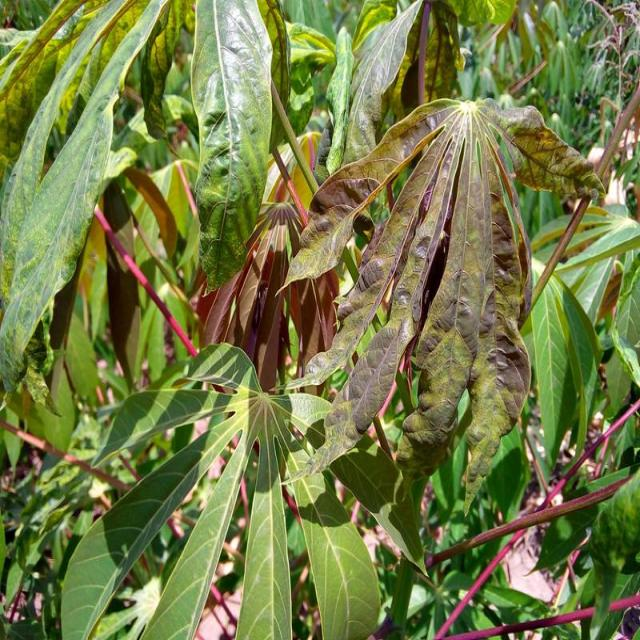cassava leaf: (277, 93, 605, 516), (0, 0, 169, 396), (188, 0, 273, 292)
